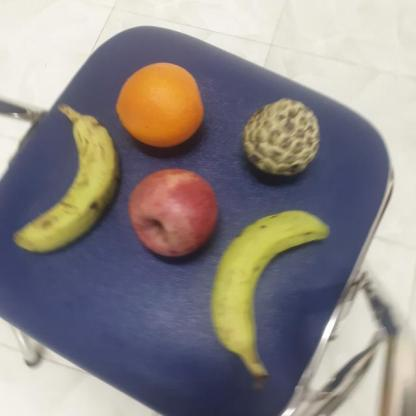annona: (242, 96, 322, 178)
apple: (125, 166, 218, 260)
banana: (212, 204, 330, 356), (10, 113, 121, 254)
orange: (116, 60, 207, 148)
